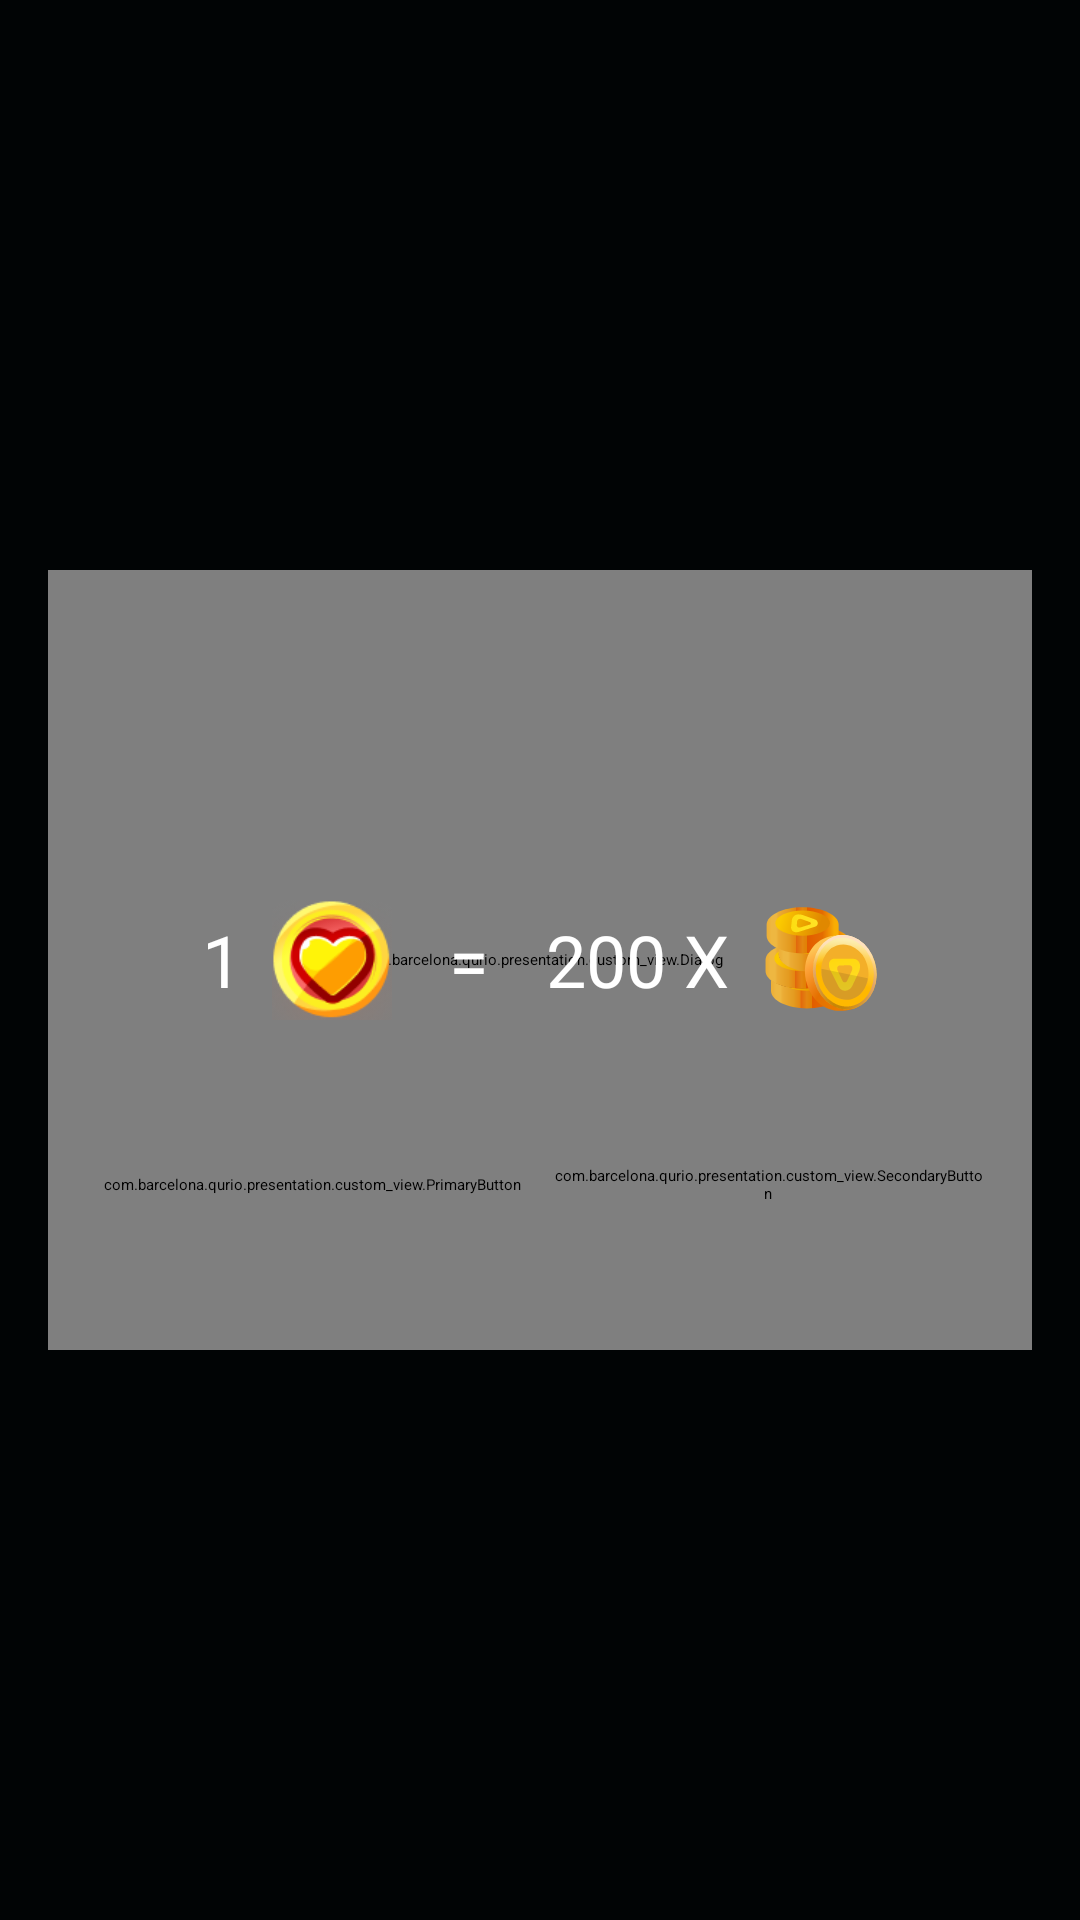

Icon bounding boxes for this 1080px x 1920px phone screenshot, format (x1, y1, x2, y2):
coin stack: (765, 907, 877, 1011)
statstics heart: (273, 901, 391, 1018)
